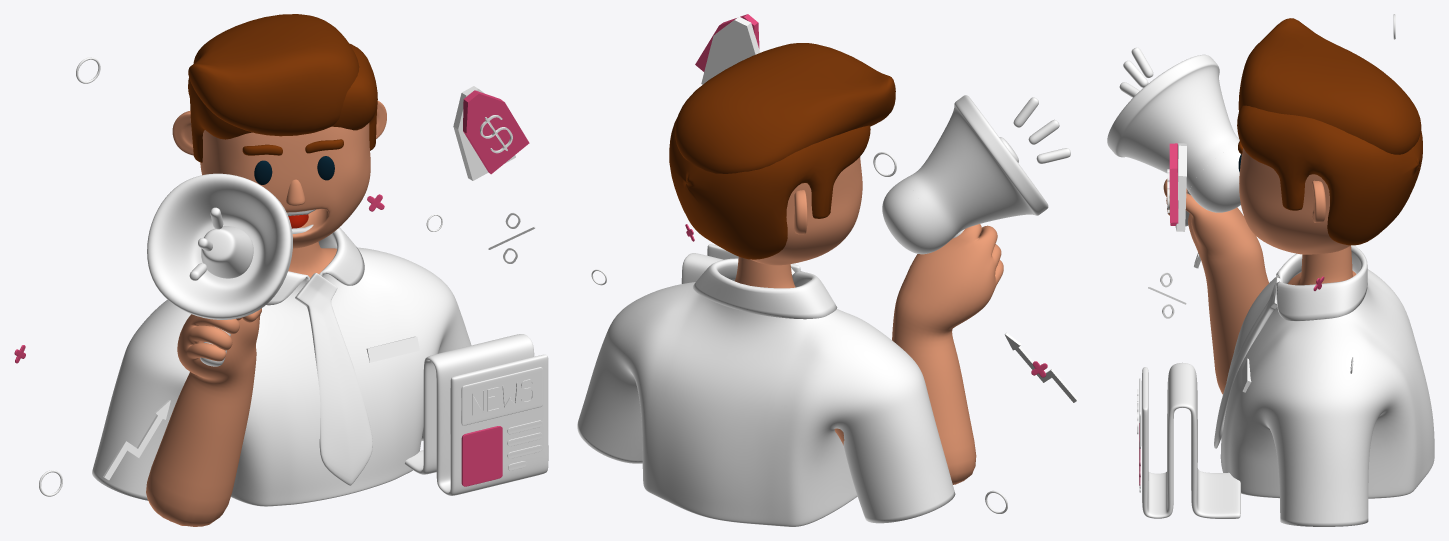
Rendered from traditional-marketing-3d-animated-model-220452720429.glb.
3 renders of one model, left to right at view 1: azimuth 30°, elevation 25°; view 2: azimuth 150°, elevation 25°; view 3: azimuth 270°, elevation 25°, orthographic. The views are drawn at different scales.
Parts seen in each view (by area): view 1: Shirt.001, Head.001, Hand Megaphone, Hand, News Paper, Head.003, Cube.004, Price Tag, News Paper.005, News Paper.001, Cube.002, Body (+4 smaller); view 2: Shirt.001, Head.001, Hand, Hand Megaphone, Head.003, Cube.002, Body, News Paper, Cube.003; view 3: Shirt.001, Head.001, Hand Megaphone, Hand, News Paper, Head.003, Body, Cube.004, Cube.002, Price Tag.
Boxes of the visible parts, left/top/right/bottom form: Shirt.001: left=92, top=227, right=471, bottom=506; Head.001: left=188, top=14, right=377, bottom=162; Hand Megaphone: left=147, top=173, right=292, bottom=366; Hand: left=146, top=308, right=261, bottom=526; News Paper: left=405, top=334, right=548, bottom=495; Head.003: left=172, top=101, right=386, bottom=248; Cube.004: left=295, top=273, right=372, bottom=485; Price Tag: left=463, top=90, right=529, bottom=174; News Paper.005: left=461, top=367, right=542, bottom=425; News Paper.001: left=461, top=426, right=502, bottom=486; Cube.002: left=453, top=86, right=515, bottom=180; Body: left=288, top=241, right=336, bottom=277; Shirt.001: left=577, top=258, right=955, bottom=526; Head.001: left=669, top=43, right=895, bottom=259; Hand: left=892, top=224, right=1003, bottom=484; Hand Megaphone: left=882, top=95, right=1048, bottom=254; Head.003: left=750, top=157, right=862, bottom=265; Cube.002: left=701, top=16, right=760, bottom=84; Body: left=735, top=257, right=844, bottom=445; News Paper: left=681, top=244, right=800, bottom=283; Cube.003: left=1004, top=332, right=1078, bottom=402; Shirt.001: left=1220, top=245, right=1434, bottom=526; Head.001: left=1237, top=18, right=1422, bottom=245; Hand Megaphone: left=1107, top=54, right=1240, bottom=226; Hand: left=1163, top=179, right=1268, bottom=394; News Paper: left=1142, top=362, right=1240, bottom=518; Head.003: left=1239, top=148, right=1350, bottom=254; Body: left=1288, top=245, right=1356, bottom=285; Cube.004: left=1214, top=277, right=1281, bottom=448; Cube.002: left=1175, top=143, right=1186, bottom=231; Price Tag: left=1169, top=143, right=1178, bottom=225.
Size of the model in its own units: 5.23 by 4.61 by 3.42.
